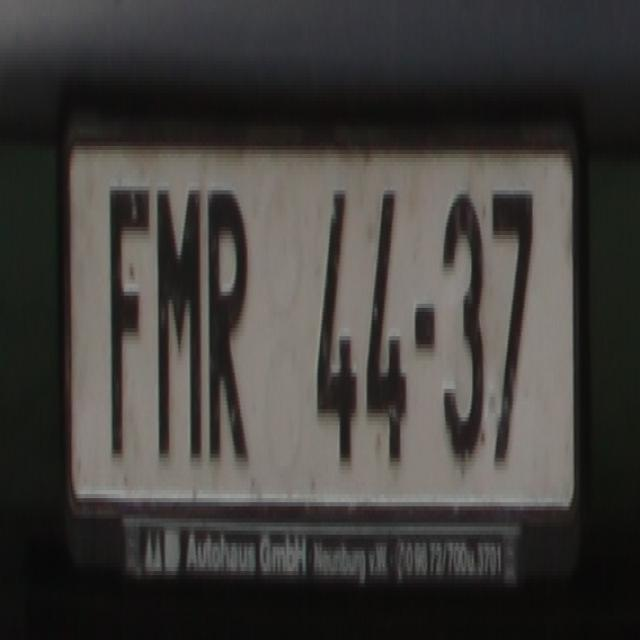3: (440, 194, 486, 458)
4: (366, 194, 409, 482), (317, 194, 358, 474)
7: (488, 174, 535, 482)
F: (101, 178, 150, 466)
M: (152, 174, 203, 466)
